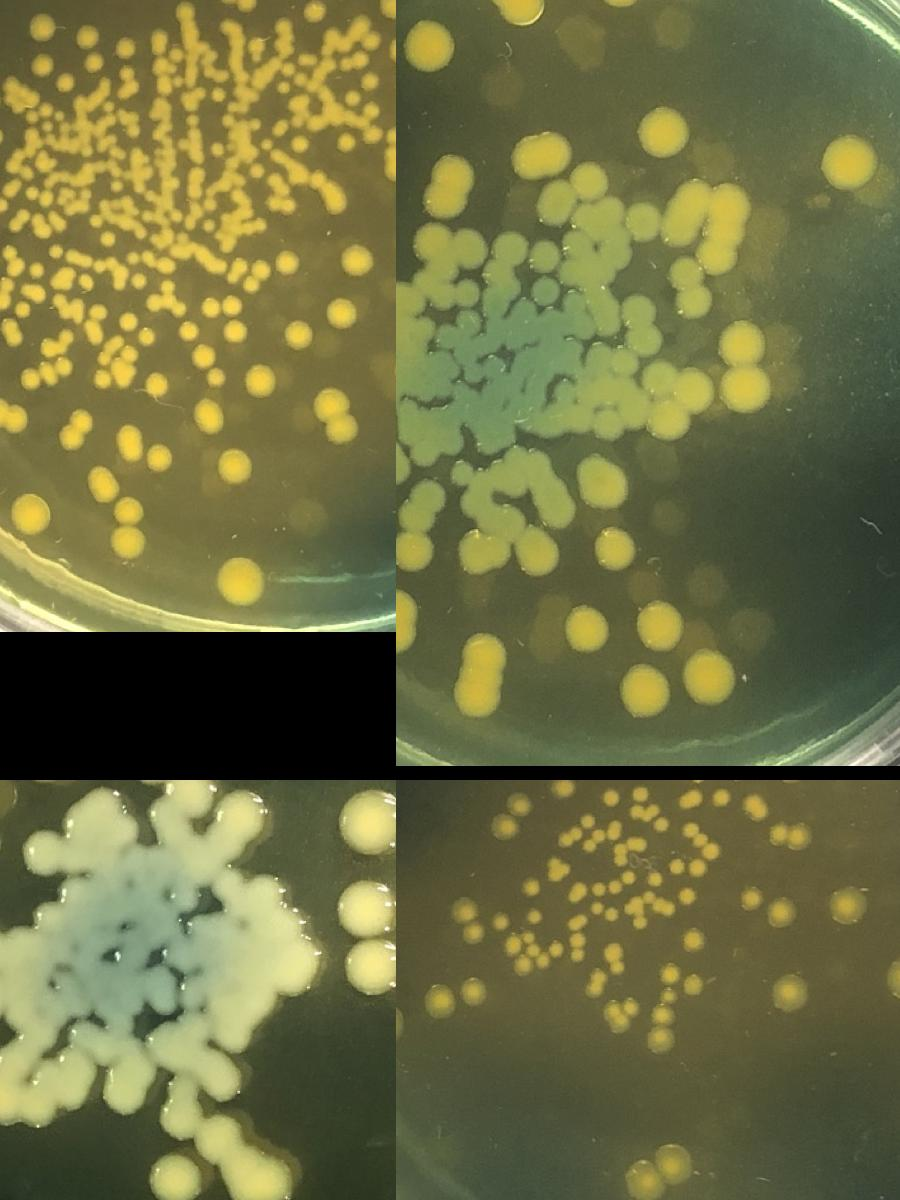valgino: (568, 296, 714, 442), (68, 968, 212, 1112), (396, 223, 507, 400), (159, 1074, 288, 1200), (661, 180, 749, 318), (126, 780, 269, 848), (536, 159, 626, 258), (264, 909, 322, 993), (718, 318, 768, 414), (458, 505, 526, 572), (0, 1044, 54, 1128), (561, 294, 621, 360), (458, 634, 504, 717), (486, 445, 550, 498), (212, 870, 282, 918), (338, 879, 396, 935), (342, 794, 396, 851), (426, 156, 475, 218), (344, 936, 396, 993), (512, 132, 572, 178), (147, 1153, 205, 1200), (492, 230, 560, 270), (24, 831, 88, 873), (823, 137, 872, 189), (635, 598, 684, 650), (620, 664, 669, 716), (578, 454, 626, 507), (406, 19, 454, 71), (686, 650, 732, 704), (640, 106, 686, 158), (512, 276, 562, 322), (398, 479, 444, 528), (594, 240, 632, 284), (594, 527, 634, 567), (568, 610, 608, 650), (518, 532, 558, 572), (396, 531, 432, 571), (540, 491, 576, 527), (396, 590, 416, 653), (166, 936, 198, 970), (118, 938, 150, 971), (106, 813, 138, 846), (60, 878, 93, 910), (220, 1020, 252, 1052), (206, 1069, 238, 1101), (168, 879, 200, 911), (53, 1078, 85, 1110), (34, 902, 66, 934), (7, 925, 39, 957), (628, 204, 660, 234), (486, 0, 535, 16), (562, 289, 586, 314), (558, 260, 582, 284), (552, 379, 576, 403), (509, 400, 533, 424), (496, 274, 520, 298), (412, 440, 436, 464), (462, 490, 485, 514), (439, 430, 462, 454), (451, 462, 475, 484), (396, 324, 402, 348)
vharveyi: (214, 549, 268, 609), (5, 481, 59, 541), (240, 247, 306, 295), (308, 384, 358, 444), (630, 1149, 688, 1199), (106, 494, 148, 562), (199, 293, 248, 344), (70, 18, 106, 74), (212, 444, 256, 488), (188, 343, 230, 389), (503, 928, 540, 976), (659, 960, 704, 998), (338, 240, 380, 280), (237, 362, 279, 402), (451, 898, 486, 944), (322, 293, 362, 333), (20, 6, 60, 46), (57, 408, 95, 450), (602, 996, 644, 1032), (358, 28, 396, 65), (24, 100, 66, 133), (0, 394, 33, 434), (766, 822, 812, 850), (584, 818, 621, 852), (650, 1003, 676, 1051), (458, 973, 493, 1007), (144, 440, 179, 472), (138, 370, 172, 402), (832, 888, 864, 922), (535, 936, 567, 970), (422, 984, 454, 1018), (282, 318, 316, 349), (116, 35, 138, 82), (774, 977, 806, 1009), (765, 898, 797, 930), (381, 125, 396, 183), (7, 205, 32, 236), (624, 896, 648, 928), (29, 50, 56, 78), (24, 184, 56, 206), (15, 367, 42, 393), (171, 0, 198, 24), (54, 69, 78, 95), (604, 941, 624, 972), (359, 68, 383, 92), (334, 130, 358, 154), (176, 318, 200, 342), (138, 324, 162, 348), (116, 308, 140, 332), (741, 790, 765, 814), (682, 928, 706, 952), (508, 790, 532, 814), (494, 814, 518, 838), (0, 274, 15, 312), (303, 0, 326, 24), (548, 857, 570, 882), (124, 249, 156, 266), (886, 957, 900, 995), (215, 0, 259, 12), (740, 886, 762, 910), (592, 880, 624, 896), (631, 804, 659, 822), (588, 970, 607, 996), (375, 0, 396, 22), (558, 827, 582, 846), (92, 368, 112, 390), (76, 270, 96, 292), (688, 856, 708, 878), (680, 786, 702, 806), (525, 905, 545, 927), (522, 876, 542, 898), (490, 908, 510, 930), (571, 932, 586, 961), (551, 780, 575, 798), (14, 299, 34, 320), (55, 354, 74, 376), (29, 258, 48, 280), (566, 912, 589, 930), (362, 100, 382, 120), (290, 134, 310, 154), (273, 77, 293, 97), (246, 34, 266, 54), (200, 214, 218, 236), (712, 786, 730, 808), (208, 138, 225, 160), (209, 84, 229, 102), (184, 110, 204, 128), (2, 242, 20, 262), (702, 840, 720, 860), (683, 818, 701, 838), (680, 885, 698, 905), (668, 856, 686, 876), (631, 783, 649, 803), (602, 787, 620, 807), (570, 879, 588, 899), (344, 87, 362, 106), (659, 898, 677, 917), (648, 868, 666, 887), (166, 44, 184, 61), (396, 1003, 404, 1041), (248, 162, 266, 178), (170, 301, 188, 317), (130, 273, 148, 289), (614, 843, 627, 864), (159, 277, 176, 293), (87, 214, 105, 228), (602, 907, 620, 921), (100, 230, 116, 245), (48, 243, 63, 259), (148, 295, 162, 311), (662, 988, 678, 1002), (620, 870, 638, 882), (109, 178, 124, 192), (581, 813, 595, 827), (260, 138, 276, 150), (588, 901, 602, 914), (656, 819, 668, 831), (644, 889, 656, 901), (626, 837, 638, 849)
